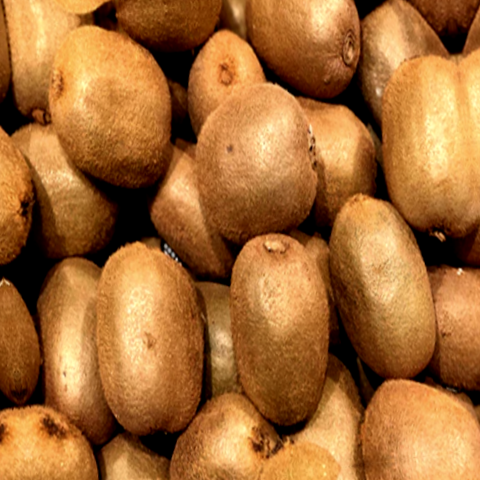kiwi: (79, 228, 225, 456), (180, 67, 355, 256), (304, 175, 462, 383), (29, 11, 190, 213), (215, 217, 350, 443), (358, 42, 480, 241)
